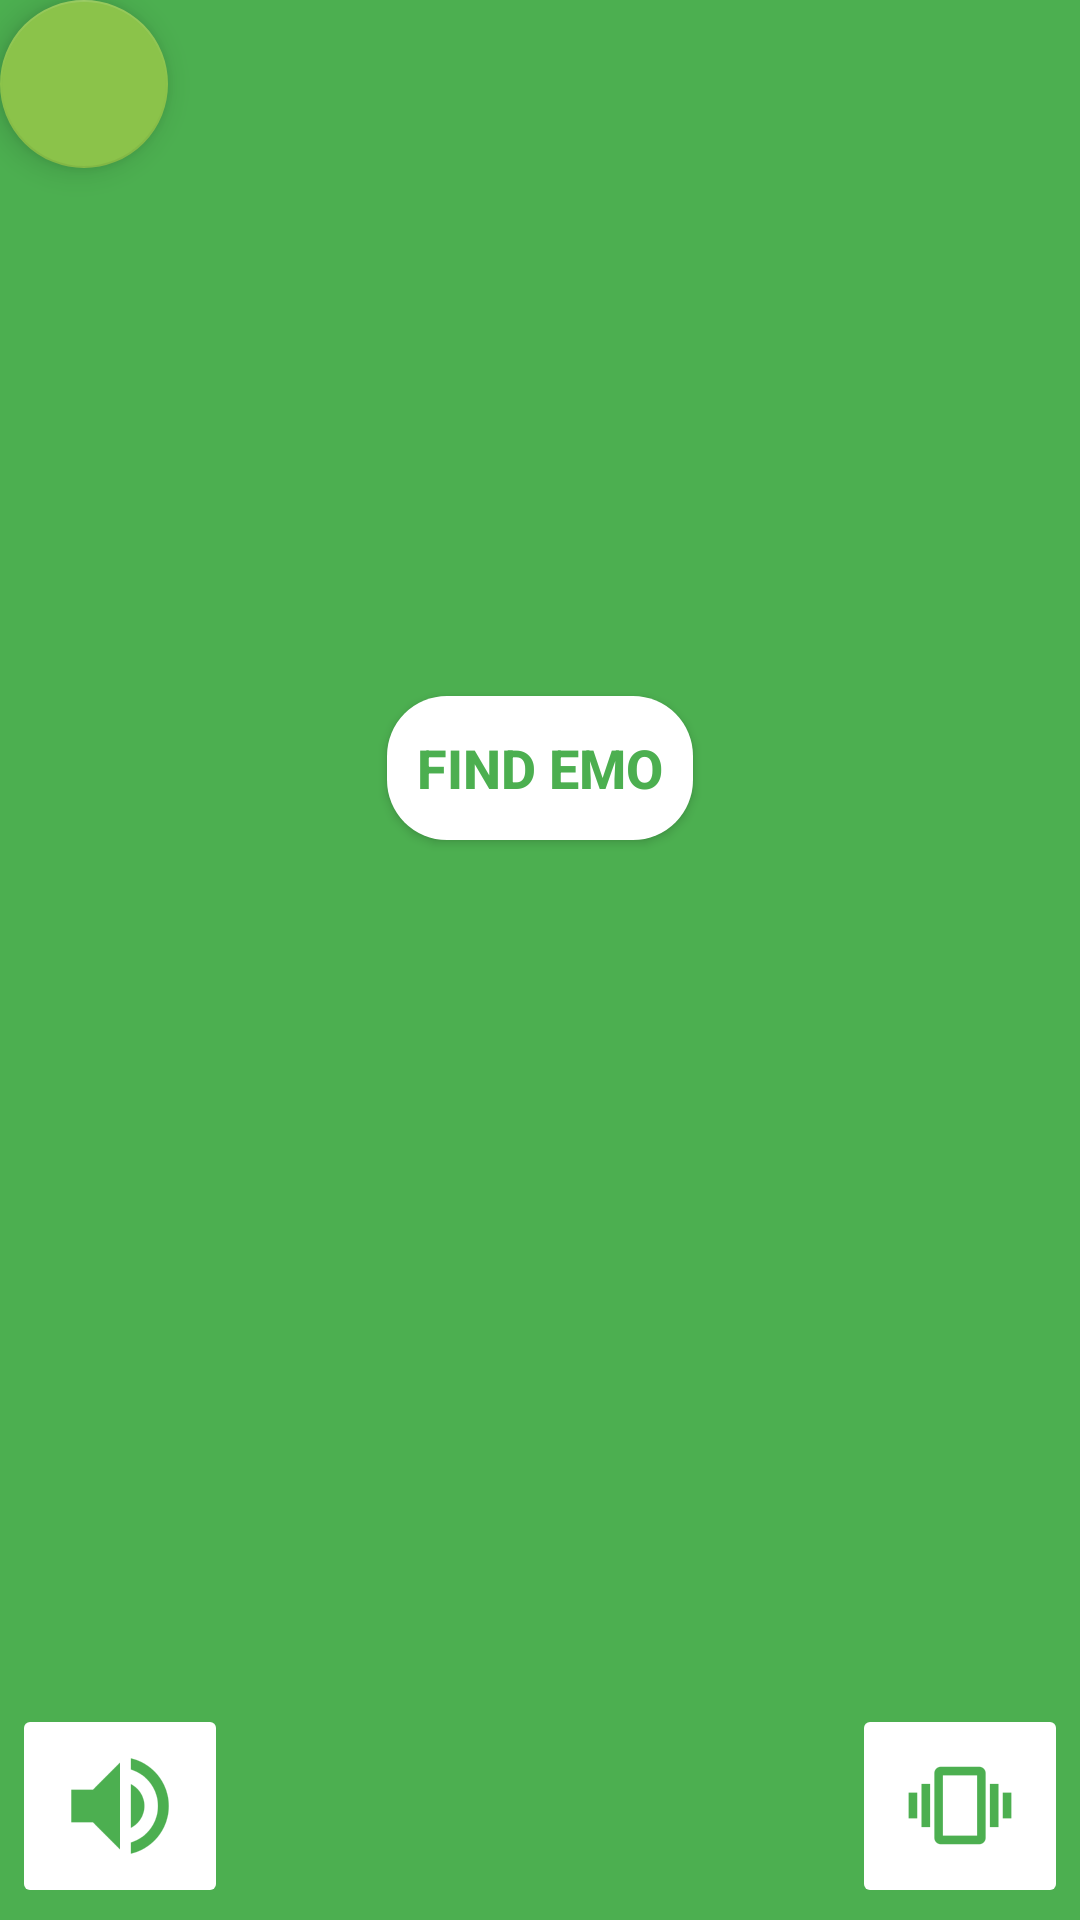

Screen size 1080px×1920px. Icon name, then its box in pixels as (x1, y1, x2, y2):
sound enable: (24, 1722, 216, 1890)
vibration enable: (864, 1722, 1056, 1890)
